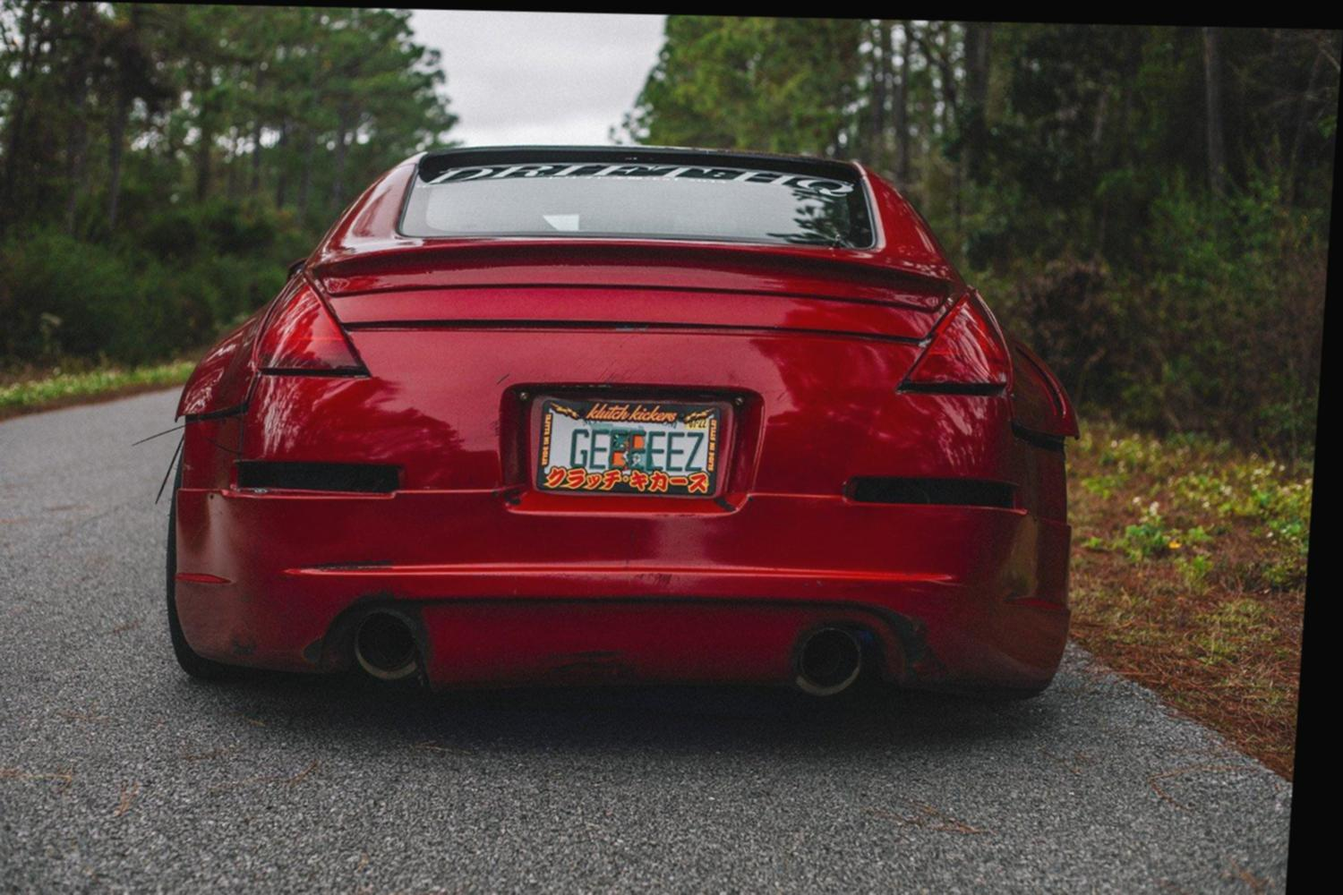License_Plate: (528, 394, 728, 503)
